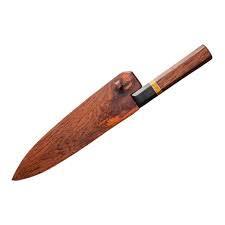Knife: (11, 43, 212, 181)
